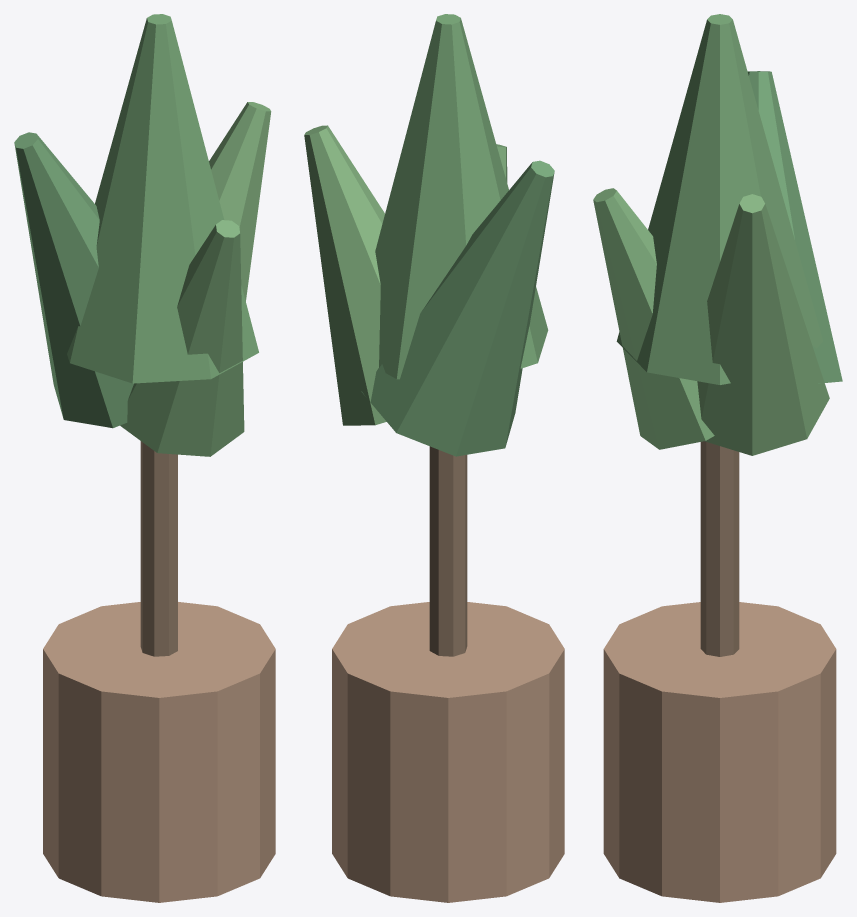
The model's file is liv_planta_grande.glb.
3 renders of one model, left to right at view 1: azimuth 30°, elevation 25°; view 2: azimuth 150°, elevation 25°; view 3: azimuth 270°, elevation 25°, orthographic.
Visible parts, largest first — view 1: LIV_Planta_Grande_v01; view 2: LIV_Planta_Grande_v01; view 3: LIV_Planta_Grande_v01.
Part boxes in pixels (left/top/right/bottom): LIV_Planta_Grande_v01: left=14, top=14, right=275, bottom=902; LIV_Planta_Grande_v01: left=304, top=14, right=564, bottom=902; LIV_Planta_Grande_v01: left=593, top=14, right=842, bottom=902.
Size of the model in its own units: 0.4479 by 1.42 by 0.3863.
